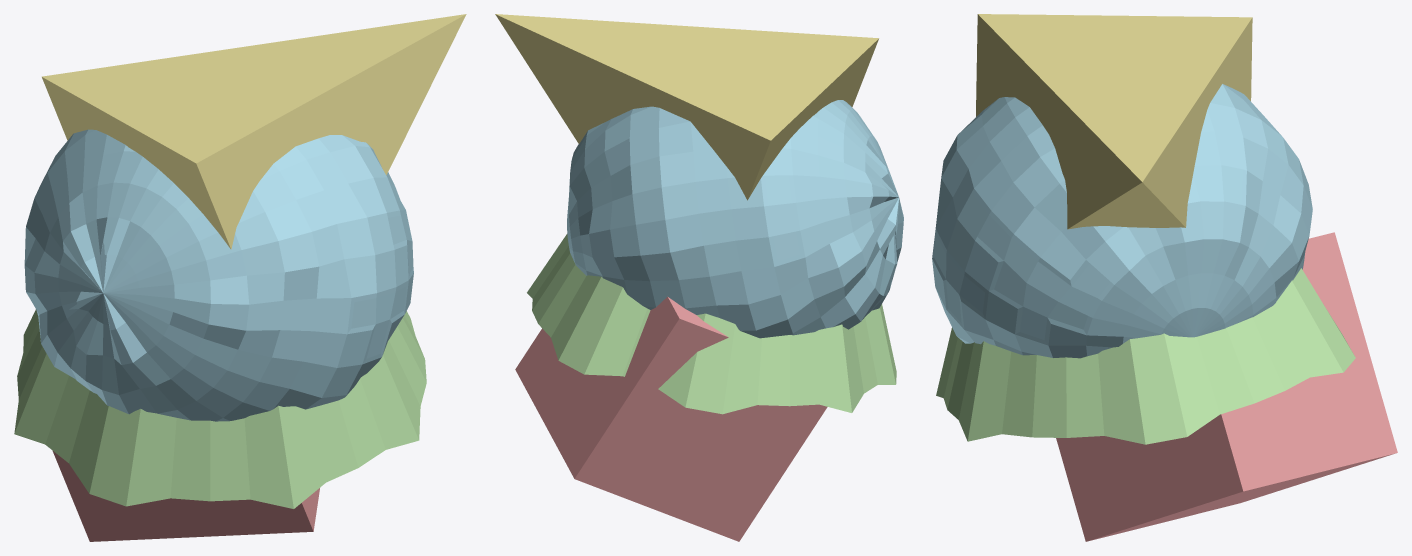
Rendered from piernaderecha-amebaPlayer.glb.
3 views of the same model, side by side, from view 1: azimuth 30°, elevation 25°; view 2: azimuth 150°, elevation 25°; view 3: azimuth 270°, elevation 25° (orthographic). The views are drawn at different scales.
Visible parts, largest first — view 1: Sphere, Cone, Cylinder, Cube; view 2: Sphere, Cone, Cube, Cylinder; view 3: Sphere, Cone, Cylinder, Cube.
Boxes of the visible parts, <box> form: Sphere: <box>24,129,413,421</box>; Cone: <box>42,14,466,249</box>; Cylinder: <box>14,309,426,508</box>; Cube: <box>52,450,319,541</box>; Sphere: <box>567,100,903,338</box>; Cone: <box>495,14,878,200</box>; Cube: <box>515,296,827,541</box>; Cylinder: <box>527,234,896,414</box>; Sphere: <box>932,84,1312,358</box>; Cone: <box>976,14,1252,229</box>; Cylinder: <box>936,268,1355,444</box>; Cube: <box>1056,232,1397,541</box>.
Size of the model in its own units: 1.48 by 1.6 by 1.41.
